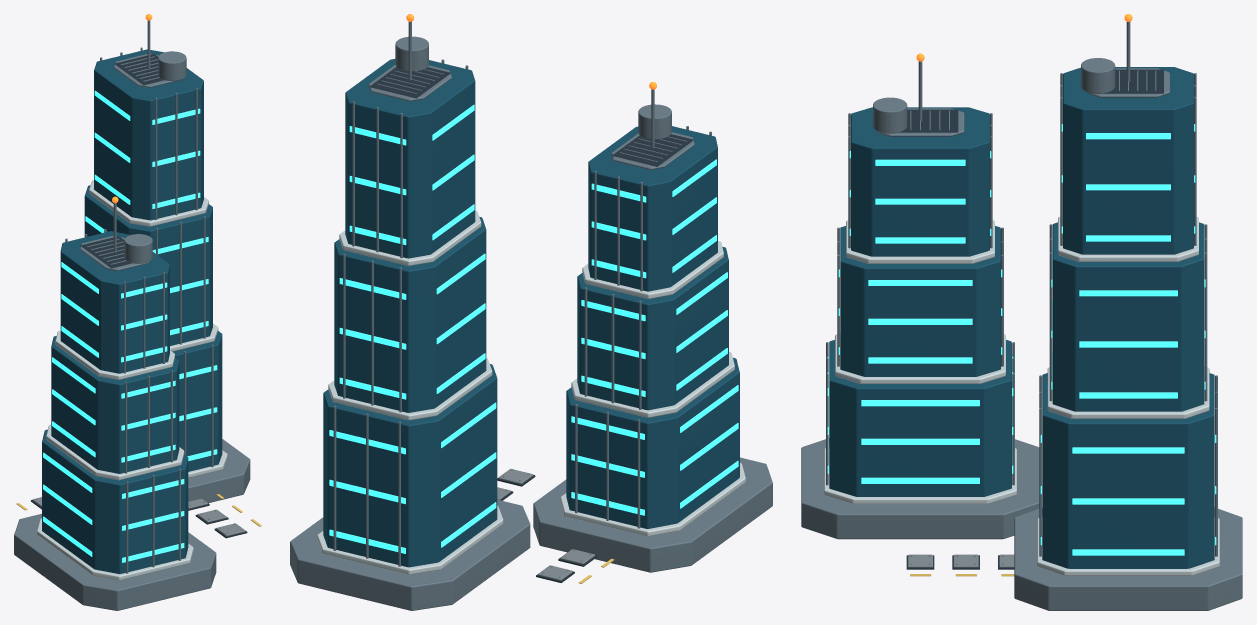
Rendered from StormCity.fbx.
3 renders of one model, left to right at view 1: azimuth 30°, elevation 25°; view 2: azimuth 150°, elevation 25°; view 3: azimuth 270°, elevation 25°, orthographic. The views are drawn at different scales.
Parts seen in each view (by area): view 1: Setback glass facade.017, Setback glass facade.012, Setback glass facade.013, Setback glass facade.014, Chamfered tower plinth.004, Setback glass facade.016, Setback glass facade.015, Chamfered tower plinth.005, Terrace slab.012, Terrace slab.013, Terrace slab.014, Terrace slab.017 (+13 smaller); view 2: Setback glass facade.015, Setback glass facade.016, Setback glass facade.017, Setback glass facade.012, Setback glass facade.013, Setback glass facade.014, Chamfered tower plinth.005, Chamfered tower plinth.004, Terrace slab.012, Terrace slab.015, Terrace slab.013, Terrace slab.016 (+6 smaller); view 3: Setback glass facade.015, Setback glass facade.016, Setback glass facade.017, Setback glass facade.012, Setback glass facade.013, Setback glass facade.014, Chamfered tower plinth.005, Chamfered tower plinth.004, Terrace slab.012, Terrace slab.015, Terrace slab.016, Terrace slab.013 (+25 smaller).
Boxes of the visible parts, x1,y1,x2,y2 form: Setback glass facade.017: (94,49,203,220); Setback glass facade.012: (42,429,188,574); Setback glass facade.013: (51,336,179,473); Setback glass facade.014: (60,231,169,373); Chamfered tower plinth.004: (14,513,216,610); Setback glass facade.016: (84,185,212,345); Setback glass facade.015: (172,331,222,471); Chamfered tower plinth.005: (188,439,250,503); Terrace slab.012: (37,518,193,580); Terrace slab.013: (46,424,184,480); Terrace slab.014: (55,331,174,379); Terrace slab.017: (89,180,208,226); Setback glass facade.015: (323,364,497,567); Setback glass facade.016: (334,217,486,412); Setback glass facade.017: (345,59,475,258); Setback glass facade.012: (566,357,739,528); Setback glass facade.013: (577,246,728,410); Setback glass facade.014: (588,126,717,291); Chamfered tower plinth.005: (290,499,530,610); Chamfered tower plinth.004: (533,457,772,572); Terrace slab.012: (560,463,745,536); Terrace slab.015: (317,505,503,574); Terrace slab.013: (571,352,734,417); Terrace slab.016: (328,358,492,420); Setback glass facade.015: (1042,373,1214,568); Setback glass facade.016: (1052,222,1204,411); Setback glass facade.017: (1063,67,1193,254); Setback glass facade.012: (829,340,1011,496); Setback glass facade.013: (840,226,1000,376); Setback glass facade.014: (851,107,989,256); Chamfered tower plinth.005: (1014,507,1242,610); Chamfered tower plinth.004: (801,438,1039,539); Terrace slab.012: (824,447,1016,504); Terrace slab.015: (1037,517,1219,575); Terrace slab.016: (1047,366,1209,418); Terrace slab.013: (835,333,1005,383).
Size of the model in its own units: 705 by 1210 by 870.
